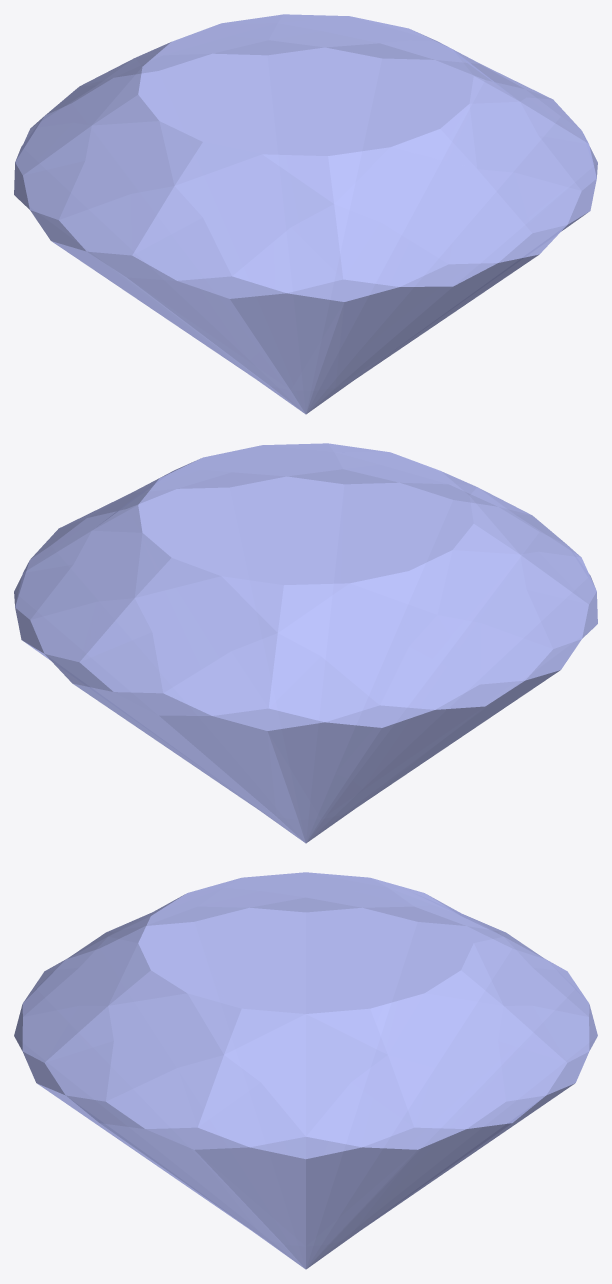
Rendered from blue-diamond.glb.
3 views of the same model, one above another, from view 1: azimuth 30°, elevation 25°; view 2: azimuth 150°, elevation 25°; view 3: azimuth 270°, elevation 25° (orthographic).
Parts seen in each view (by area): view 1: defaultMaterial; view 2: defaultMaterial; view 3: defaultMaterial.
Boxes of the visible parts, left/top/right/bottom form: defaultMaterial: left=14, top=14, right=597, bottom=414; defaultMaterial: left=14, top=443, right=597, bottom=843; defaultMaterial: left=14, top=872, right=597, bottom=1269.
Size of the model in its own units: 2 by 1.23 by 2.
